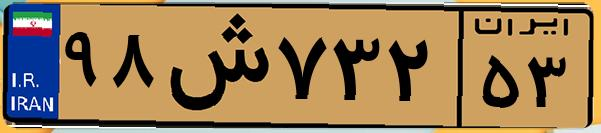2: (385, 28, 445, 110)
3: (330, 28, 385, 110), (525, 38, 570, 115)
5: (475, 38, 525, 113)
7: (270, 28, 330, 110)
8: (110, 28, 158, 98)
9: (57, 26, 110, 100)
ش: (158, 12, 270, 120)
